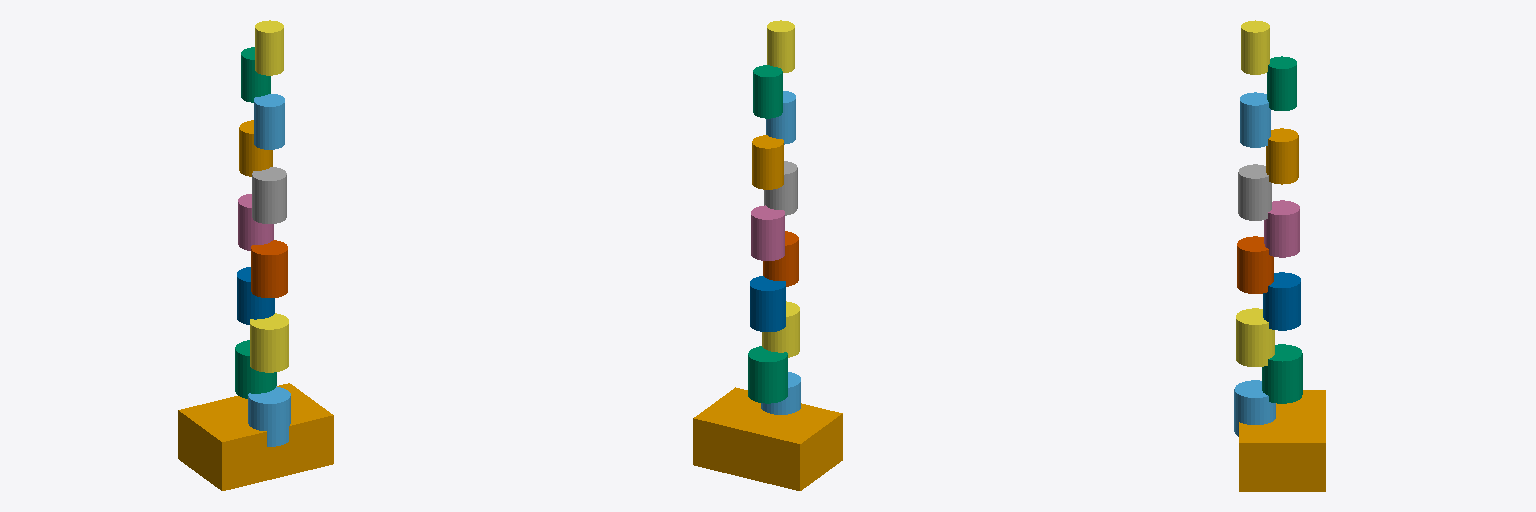
The robot description file, URDF, robot "husky":
<?xml version="1.0" encoding="utf-8"?>
<!-- LOCAL_GENERATED_DEMONSTRATION_NOT_UPSTREAM: 历史本地生成的示意链，非原厂/上游原件；不可用于真实结构或控制验证。真实来源请从档案目录选择 PRIMARY 文件。 -->
<!-- =================================================================================== -->
<!-- 历史生成示意（非上游原件）: husky (husky_description/urdf/empty.urdf)                                          -->
<!-- 机型描述: Clearpath Robotics Husky A200 野外四轮差速越野机器人底盘 URDF/XACRO 基准                                                                   -->
<!-- 历史目录机型统计（并非本示意链）: 多机型合集/宏模板                                                    -->
<!-- =================================================================================== -->
<robot name="husky">
  <link name="base_link">
    <inertial>
      <origin xyz="0 0 0.08" rpy="0 0 0"/>
      <mass value="16.40"/>
      <inertia ixx="0.185" ixy="0.0" ixz="0.0" iyy="0.240" iyz="0.0" izz="0.295"/>
    </inertial>
    <visual>
      <origin xyz="0 0 0.08" rpy="0 0 0"/>
      <geometry><box size="0.38 0.26 0.16"/></geometry>
    </visual>
    <collision>
      <origin xyz="0 0 0.08" rpy="0 0 0"/>
      <geometry><box size="0.38 0.26 0.16"/></geometry>
    </collision>
  </link>

  <link name="link_1">
    <inertial>
      <origin xyz="0 0 0.06" rpy="0 0 0"/>
      <mass value="3.200"/>
      <inertia ixx="0.014" ixy="0.0" ixz="0.0" iyy="0.014" iyz="0.0" izz="0.008"/>
    </inertial>
    <visual>
      <origin xyz="0 0 0.06" rpy="0 0 0"/>
      <geometry><cylinder radius="0.063" length="0.14"/></geometry>
    </visual>
  </link>
  <joint name="joint_1" type="revolute">
    <parent link="base_link"/>
    <child link="link_1"/>
    <origin xyz="0 -0.080 0.12" rpy="0 0 0"/>
    <axis xyz="1 0 0"/>
    <limit lower="-2.7925" upper="2.7925" effort="85.0" velocity="6.28"/>
  </joint>

  <link name="link_2">
    <inertial>
      <origin xyz="0 0 0.06" rpy="0 0 0"/>
      <mass value="2.263"/>
      <inertia ixx="0.014" ixy="0.0" ixz="0.0" iyy="0.014" iyz="0.0" izz="0.008"/>
    </inertial>
    <visual>
      <origin xyz="0 0 0.06" rpy="0 0 0"/>
      <geometry><cylinder radius="0.061" length="0.14"/></geometry>
    </visual>
  </link>
  <joint name="joint_2" type="revolute">
    <parent link="link_1"/>
    <child link="link_2"/>
    <origin xyz="0 0.080 0.12" rpy="0 0 0"/>
    <axis xyz="0 1 0"/>
    <limit lower="-2.7925" upper="2.7925" effort="85.0" velocity="6.28"/>
  </joint>

  <link name="link_3">
    <inertial>
      <origin xyz="0 0 0.06" rpy="0 0 0"/>
      <mass value="1.848"/>
      <inertia ixx="0.014" ixy="0.0" ixz="0.0" iyy="0.014" iyz="0.0" izz="0.008"/>
    </inertial>
    <visual>
      <origin xyz="0 0 0.06" rpy="0 0 0"/>
      <geometry><cylinder radius="0.059" length="0.14"/></geometry>
    </visual>
  </link>
  <joint name="joint_3" type="revolute">
    <parent link="link_2"/>
    <child link="link_3"/>
    <origin xyz="0 -0.080 0.12" rpy="0 0 0"/>
    <axis xyz="0 0 1"/>
    <limit lower="-2.7925" upper="2.7925" effort="85.0" velocity="6.28"/>
  </joint>

  <link name="link_4">
    <inertial>
      <origin xyz="0 0 0.06" rpy="0 0 0"/>
      <mass value="1.600"/>
      <inertia ixx="0.014" ixy="0.0" ixz="0.0" iyy="0.014" iyz="0.0" izz="0.008"/>
    </inertial>
    <visual>
      <origin xyz="0 0 0.06" rpy="0 0 0"/>
      <geometry><cylinder radius="0.057" length="0.14"/></geometry>
    </visual>
  </link>
  <joint name="joint_4" type="revolute">
    <parent link="link_3"/>
    <child link="link_4"/>
    <origin xyz="0 0.080 0.12" rpy="0 0 0"/>
    <axis xyz="0 1 0"/>
    <limit lower="-2.7925" upper="2.7925" effort="85.0" velocity="6.28"/>
  </joint>

  <link name="link_5">
    <inertial>
      <origin xyz="0 0 0.06" rpy="0 0 0"/>
      <mass value="1.431"/>
      <inertia ixx="0.014" ixy="0.0" ixz="0.0" iyy="0.014" iyz="0.0" izz="0.008"/>
    </inertial>
    <visual>
      <origin xyz="0 0 0.06" rpy="0 0 0"/>
      <geometry><cylinder radius="0.055" length="0.14"/></geometry>
    </visual>
  </link>
  <joint name="joint_5" type="revolute">
    <parent link="link_4"/>
    <child link="link_5"/>
    <origin xyz="0 -0.080 0.12" rpy="0 0 0"/>
    <axis xyz="1 0 0"/>
    <limit lower="-2.7925" upper="2.7925" effort="85.0" velocity="6.28"/>
  </joint>

  <link name="link_6">
    <inertial>
      <origin xyz="0 0 0.06" rpy="0 0 0"/>
      <mass value="1.306"/>
      <inertia ixx="0.014" ixy="0.0" ixz="0.0" iyy="0.014" iyz="0.0" izz="0.008"/>
    </inertial>
    <visual>
      <origin xyz="0 0 0.06" rpy="0 0 0"/>
      <geometry><cylinder radius="0.053" length="0.14"/></geometry>
    </visual>
  </link>
  <joint name="joint_6" type="revolute">
    <parent link="link_5"/>
    <child link="link_6"/>
    <origin xyz="0 0.080 0.12" rpy="0 0 0"/>
    <axis xyz="0 0 1"/>
    <limit lower="-2.7925" upper="2.7925" effort="85.0" velocity="6.28"/>
  </joint>

  <link name="link_7">
    <inertial>
      <origin xyz="0 0 0.06" rpy="0 0 0"/>
      <mass value="1.209"/>
      <inertia ixx="0.014" ixy="0.0" ixz="0.0" iyy="0.014" iyz="0.0" izz="0.008"/>
    </inertial>
    <visual>
      <origin xyz="0 0 0.06" rpy="0 0 0"/>
      <geometry><cylinder radius="0.051" length="0.14"/></geometry>
    </visual>
  </link>
  <joint name="joint_7" type="revolute">
    <parent link="link_6"/>
    <child link="link_7"/>
    <origin xyz="0 -0.080 0.12" rpy="0 0 0"/>
    <axis xyz="1 0 0"/>
    <limit lower="-2.7925" upper="2.7925" effort="85.0" velocity="6.28"/>
  </joint>

  <link name="link_8">
    <inertial>
      <origin xyz="0 0 0.06" rpy="0 0 0"/>
      <mass value="1.131"/>
      <inertia ixx="0.014" ixy="0.0" ixz="0.0" iyy="0.014" iyz="0.0" izz="0.008"/>
    </inertial>
    <visual>
      <origin xyz="0 0 0.06" rpy="0 0 0"/>
      <geometry><cylinder radius="0.049" length="0.14"/></geometry>
    </visual>
  </link>
  <joint name="joint_8" type="revolute">
    <parent link="link_7"/>
    <child link="link_8"/>
    <origin xyz="0 0.080 0.12" rpy="0 0 0"/>
    <axis xyz="0 1 0"/>
    <limit lower="-2.7925" upper="2.7925" effort="85.0" velocity="6.28"/>
  </joint>

  <link name="link_9">
    <inertial>
      <origin xyz="0 0 0.06" rpy="0 0 0"/>
      <mass value="1.067"/>
      <inertia ixx="0.014" ixy="0.0" ixz="0.0" iyy="0.014" iyz="0.0" izz="0.008"/>
    </inertial>
    <visual>
      <origin xyz="0 0 0.06" rpy="0 0 0"/>
      <geometry><cylinder radius="0.047" length="0.14"/></geometry>
    </visual>
  </link>
  <joint name="joint_9" type="revolute">
    <parent link="link_8"/>
    <child link="link_9"/>
    <origin xyz="0 -0.080 0.12" rpy="0 0 0"/>
    <axis xyz="0 0 1"/>
    <limit lower="-2.7925" upper="2.7925" effort="85.0" velocity="6.28"/>
  </joint>

  <link name="link_10">
    <inertial>
      <origin xyz="0 0 0.06" rpy="0 0 0"/>
      <mass value="1.012"/>
      <inertia ixx="0.014" ixy="0.0" ixz="0.0" iyy="0.014" iyz="0.0" izz="0.008"/>
    </inertial>
    <visual>
      <origin xyz="0 0 0.06" rpy="0 0 0"/>
      <geometry><cylinder radius="0.045" length="0.14"/></geometry>
    </visual>
  </link>
  <joint name="joint_10" type="revolute">
    <parent link="link_9"/>
    <child link="link_10"/>
    <origin xyz="0 0.080 0.12" rpy="0 0 0"/>
    <axis xyz="0 1 0"/>
    <limit lower="-2.7925" upper="2.7925" effort="85.0" velocity="6.28"/>
  </joint>

  <link name="link_11">
    <inertial>
      <origin xyz="0 0 0.06" rpy="0 0 0"/>
      <mass value="0.965"/>
      <inertia ixx="0.014" ixy="0.0" ixz="0.0" iyy="0.014" iyz="0.0" izz="0.008"/>
    </inertial>
    <visual>
      <origin xyz="0 0 0.06" rpy="0 0 0"/>
      <geometry><cylinder radius="0.043" length="0.14"/></geometry>
    </visual>
  </link>
  <joint name="joint_11" type="revolute">
    <parent link="link_10"/>
    <child link="link_11"/>
    <origin xyz="0 -0.080 0.12" rpy="0 0 0"/>
    <axis xyz="1 0 0"/>
    <limit lower="-2.7925" upper="2.7925" effort="85.0" velocity="6.28"/>
  </joint>
</robot>

--- What the picture shows (computed from the rendered views, not written in the file) ---
The picture shows the robot from 3 angles, left to right: view 1: azimuth 30°, elevation 25°; view 2: azimuth 150°, elevation 25°; view 3: azimuth 270°, elevation 25°; orthographic projection.
Model husky with 12 links and 11 joints (11 revolute), rooted at base_link, posed all joints at 0.
Visible links, largest first — view 1: base_link, link_3, link_1, link_5, link_7, link_9, link_11, link_2, link_4, link_6, link_8, link_10; view 2: base_link, link_2, link_4, link_6, link_8, link_10, link_11, link_3, link_5, link_7, link_9, link_1; view 3: base_link, link_2, link_3, link_4, link_5, link_6, link_7, link_8, link_1, link_9, link_10, link_11.
Boxes of the visible links, x1,y1,x2,y2 form: base_link: [178, 383, 333, 490]; link_3: [250, 313, 288, 372]; link_1: [248, 386, 290, 446]; link_5: [251, 240, 287, 297]; link_7: [252, 167, 286, 223]; link_9: [254, 94, 284, 149]; link_11: [255, 20, 283, 75]; link_2: [235, 340, 276, 398]; link_4: [237, 267, 274, 324]; link_6: [238, 194, 273, 250]; link_8: [239, 120, 272, 176]; link_10: [241, 47, 270, 102]; base_link: [693, 387, 842, 490]; link_2: [748, 346, 787, 403]; link_4: [750, 276, 785, 331]; link_6: [751, 205, 784, 260]; link_8: [752, 135, 783, 189]; link_10: [753, 65, 782, 118]; link_11: [767, 20, 794, 72]; link_3: [762, 301, 799, 357]; link_5: [763, 231, 798, 286]; link_7: [764, 161, 797, 215]; link_9: [766, 91, 795, 144]; link_1: [761, 372, 800, 414]; base_link: [1239, 390, 1325, 491]; link_2: [1262, 344, 1302, 403]; link_3: [1236, 308, 1274, 366]; link_4: [1263, 272, 1300, 330]; link_5: [1237, 236, 1273, 293]; link_6: [1264, 200, 1299, 257]; link_7: [1238, 164, 1271, 220]; link_8: [1266, 128, 1298, 184]; link_1: [1234, 380, 1275, 436]; link_9: [1240, 92, 1270, 147]; link_10: [1267, 56, 1296, 110]; link_11: [1241, 20, 1269, 74].
Size in the robot's own frame: 0.38 by 0.273 by 1.45 metres.
Geometry: primitives only (box / cylinder / sphere), no mesh files.
